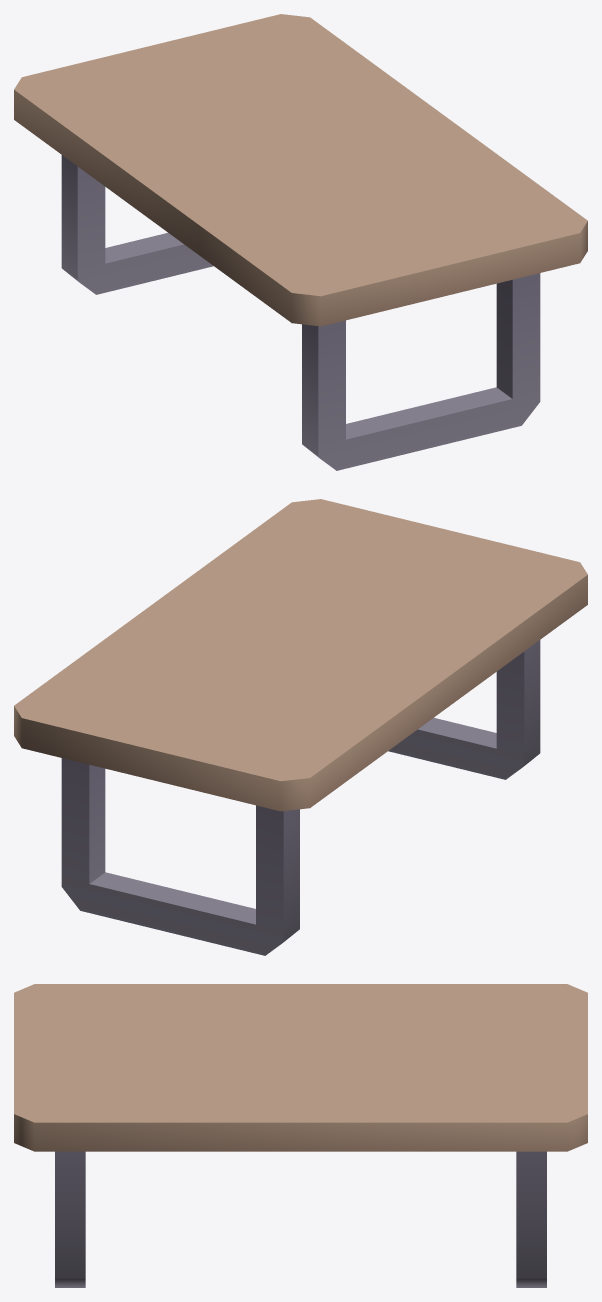
The model's file is table-rectangle-metal.glb.
3 renders of one model, top to bottom at view 1: azimuth 30°, elevation 25°; view 2: azimuth 150°, elevation 25°; view 3: azimuth 270°, elevation 25°, orthographic. The views are drawn at different scales.
Parts seen in each view (by area): view 1: table-rectangle-metal; view 2: table-rectangle-metal; view 3: table-rectangle-metal.
Boxes of the visible parts, x1=… form: table-rectangle-metal: x1=14, y1=14, x2=587, y2=470; table-rectangle-metal: x1=14, y1=499, x2=587, y2=955; table-rectangle-metal: x1=14, y1=984, x2=587, y2=1287.
Bounding box in the file's own units: 0.8 × 0.5146 × 1.4.
